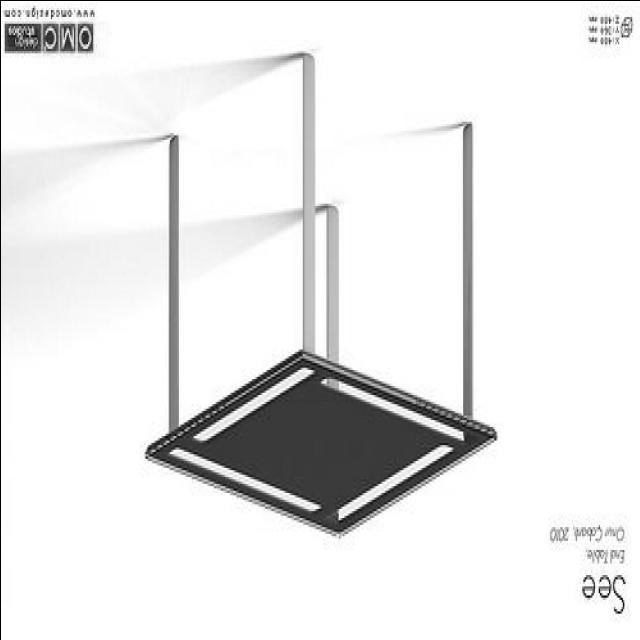table: (145, 48, 498, 540)
